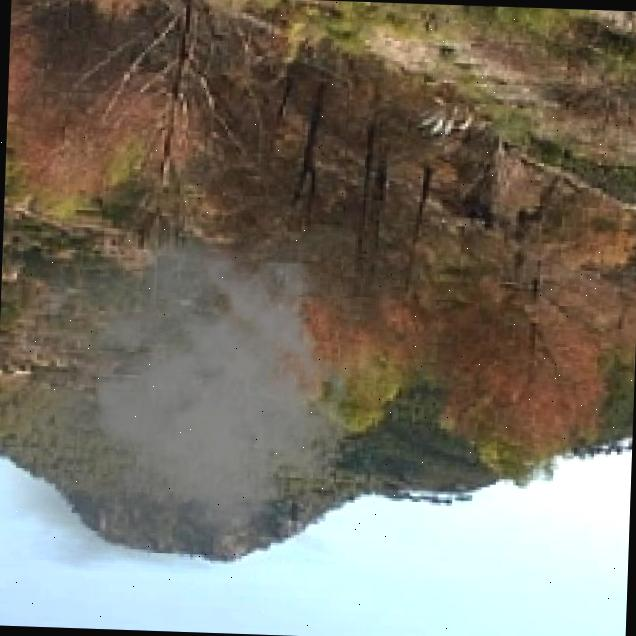smoke: (0, 213, 367, 579)
